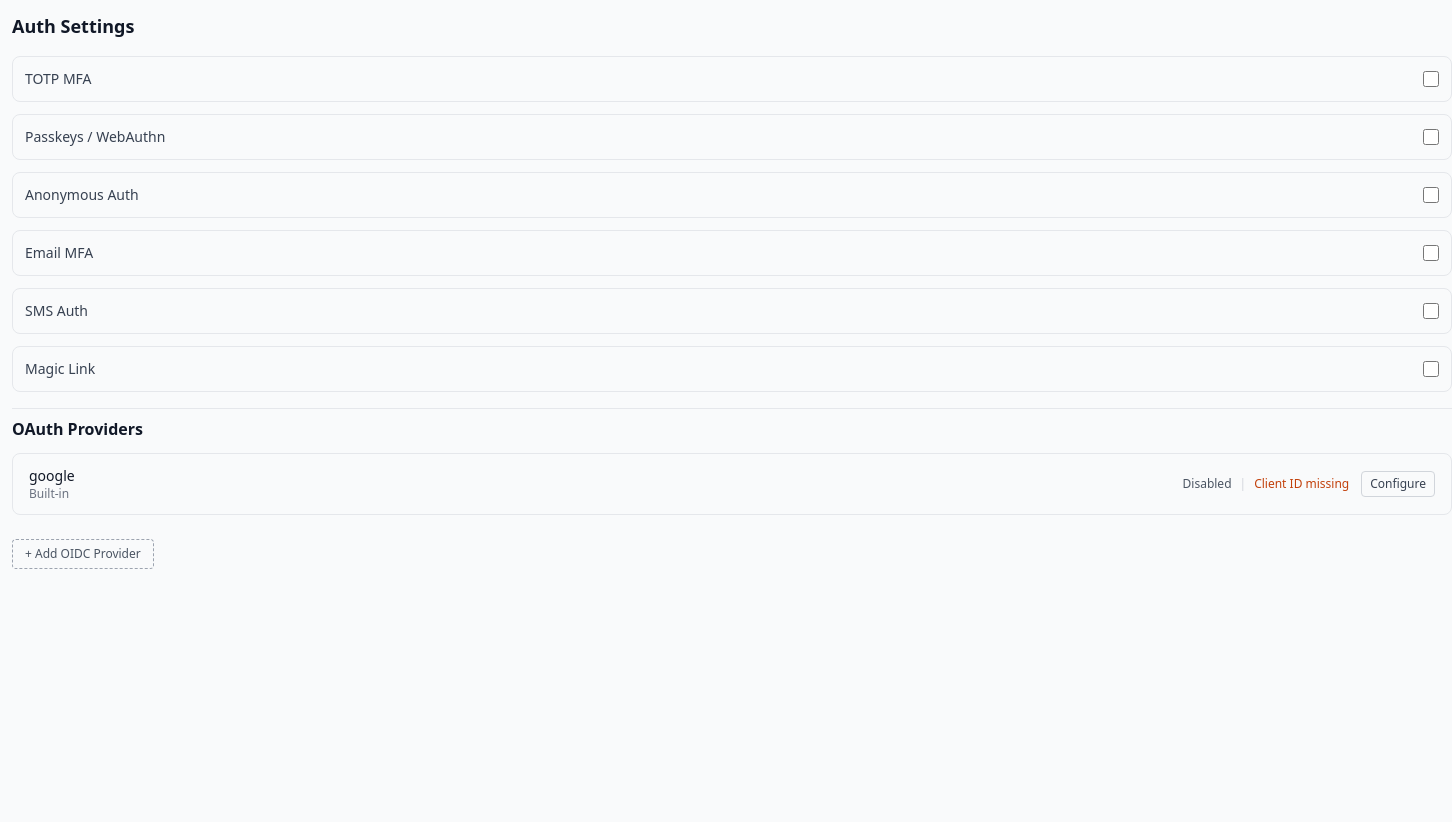
Test case: AuthSettings › opens provider form and saves built-in provider config
Click the button "Configure".
click(1398, 484)  # box [1361,471,1435,497]
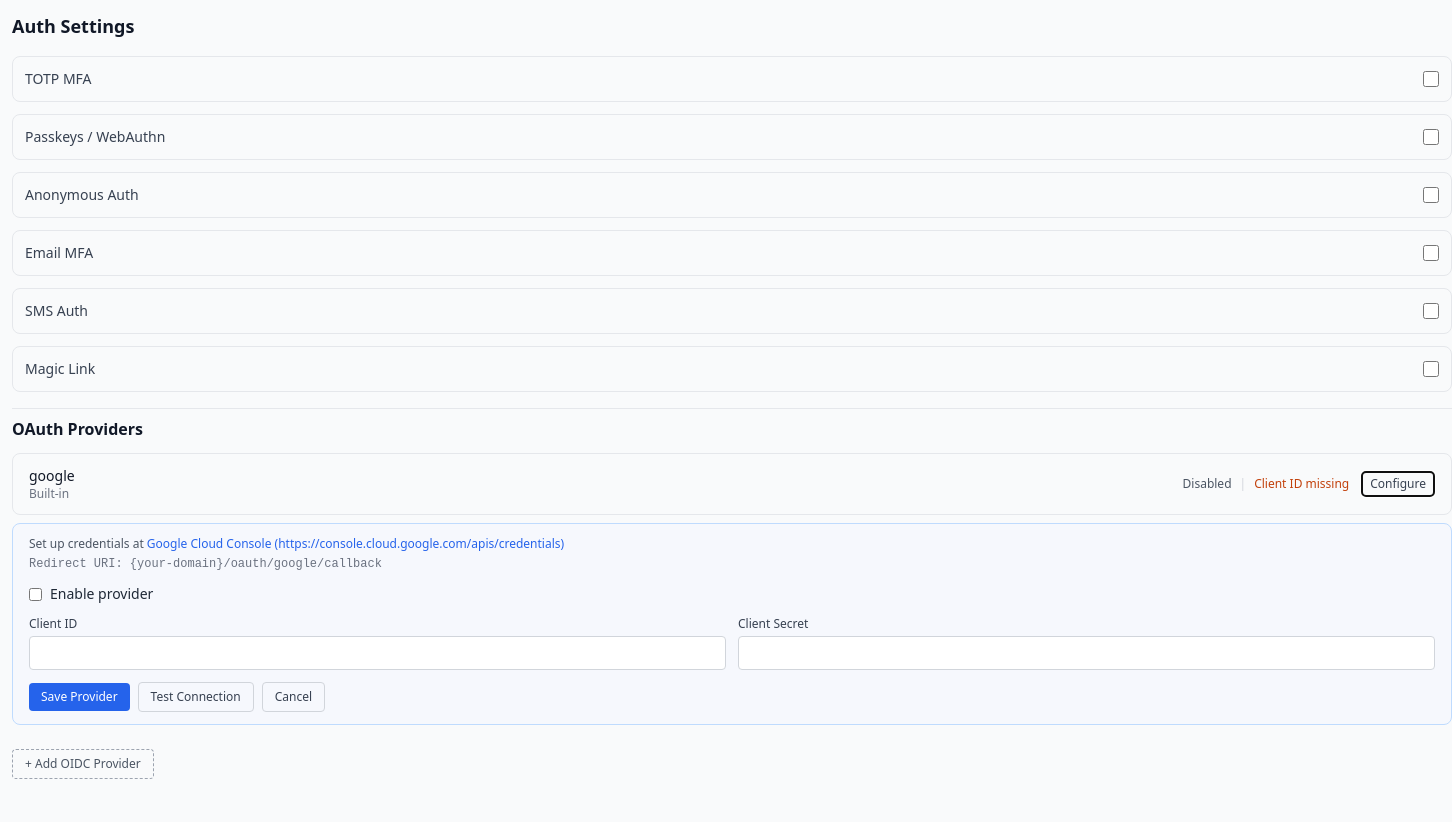
Click the checkbox with test id "provider-form-enabled".
click(36, 594)  # box [29,588,42,600]
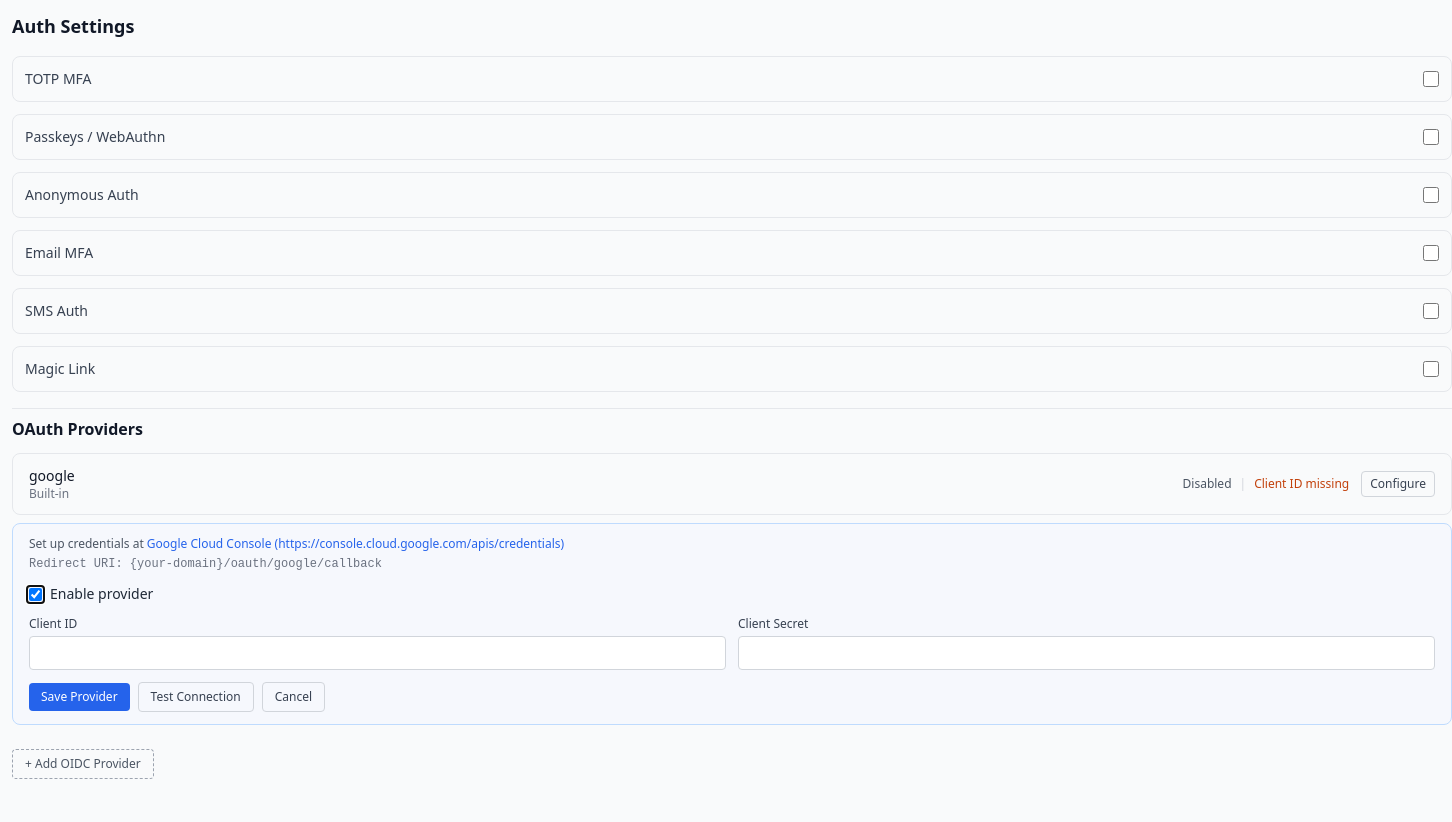
Type "google-client-id" into the field with test id "provider-form-client-id".
click(378, 653); type("google-client-id")  # box [29,636,726,670]
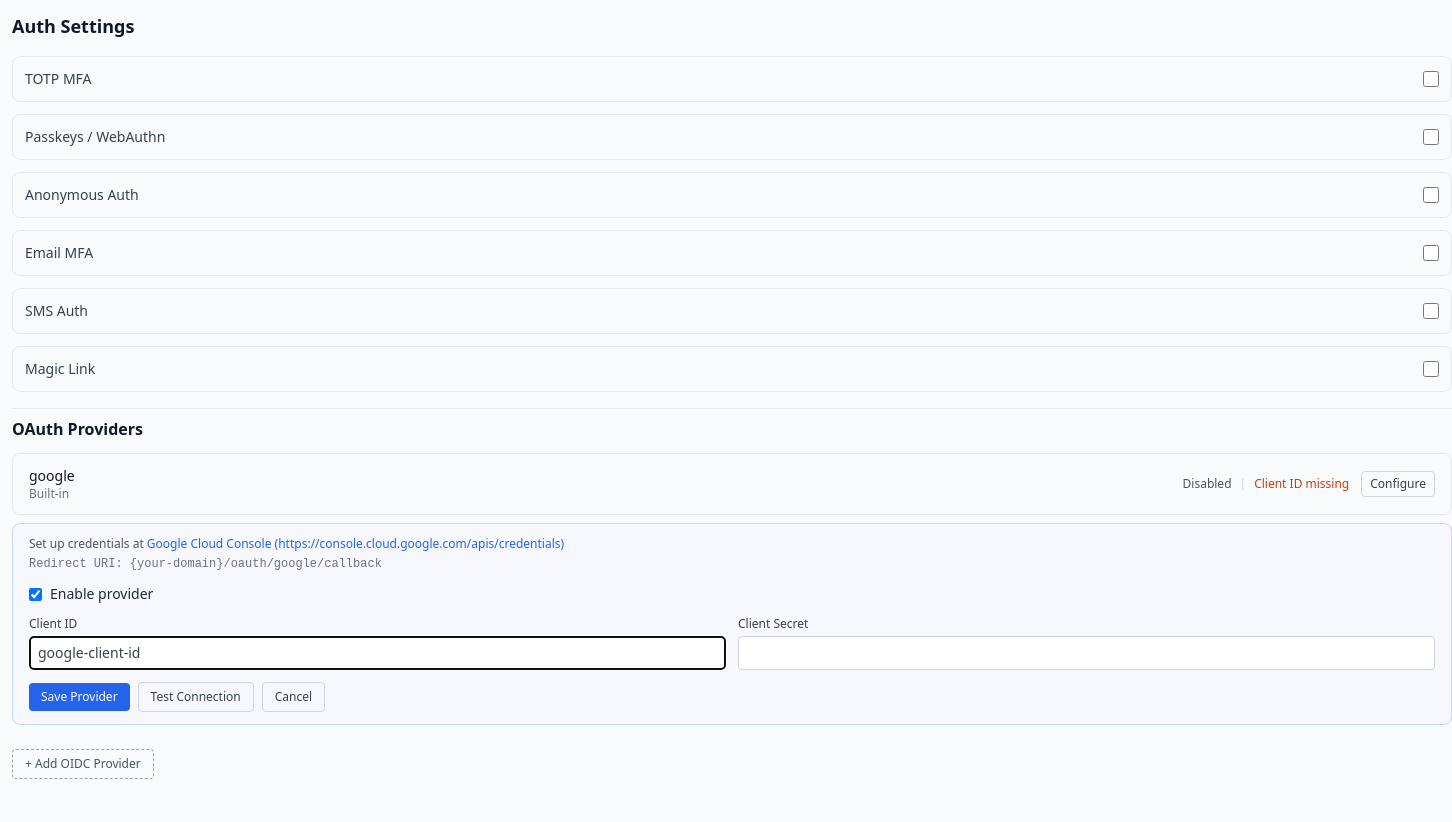
Type "google-client-secret" into the password field with test id "provider-form-client-secret".
click(1086, 653); type("google-client-secret")  # box [738,636,1435,670]
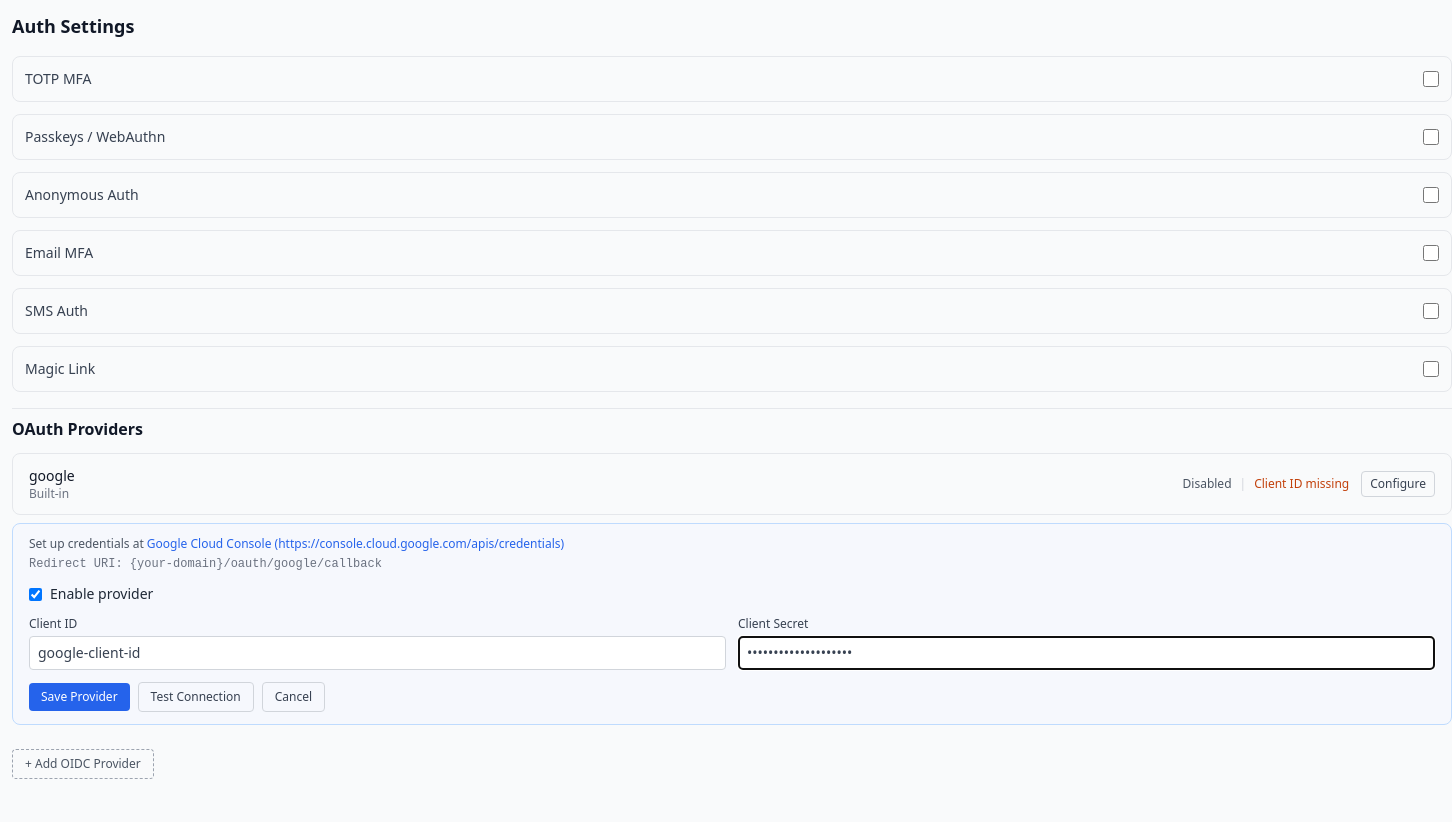
Click the button with test id "provider-form-save".
click(79, 697)  # box [29,683,130,711]
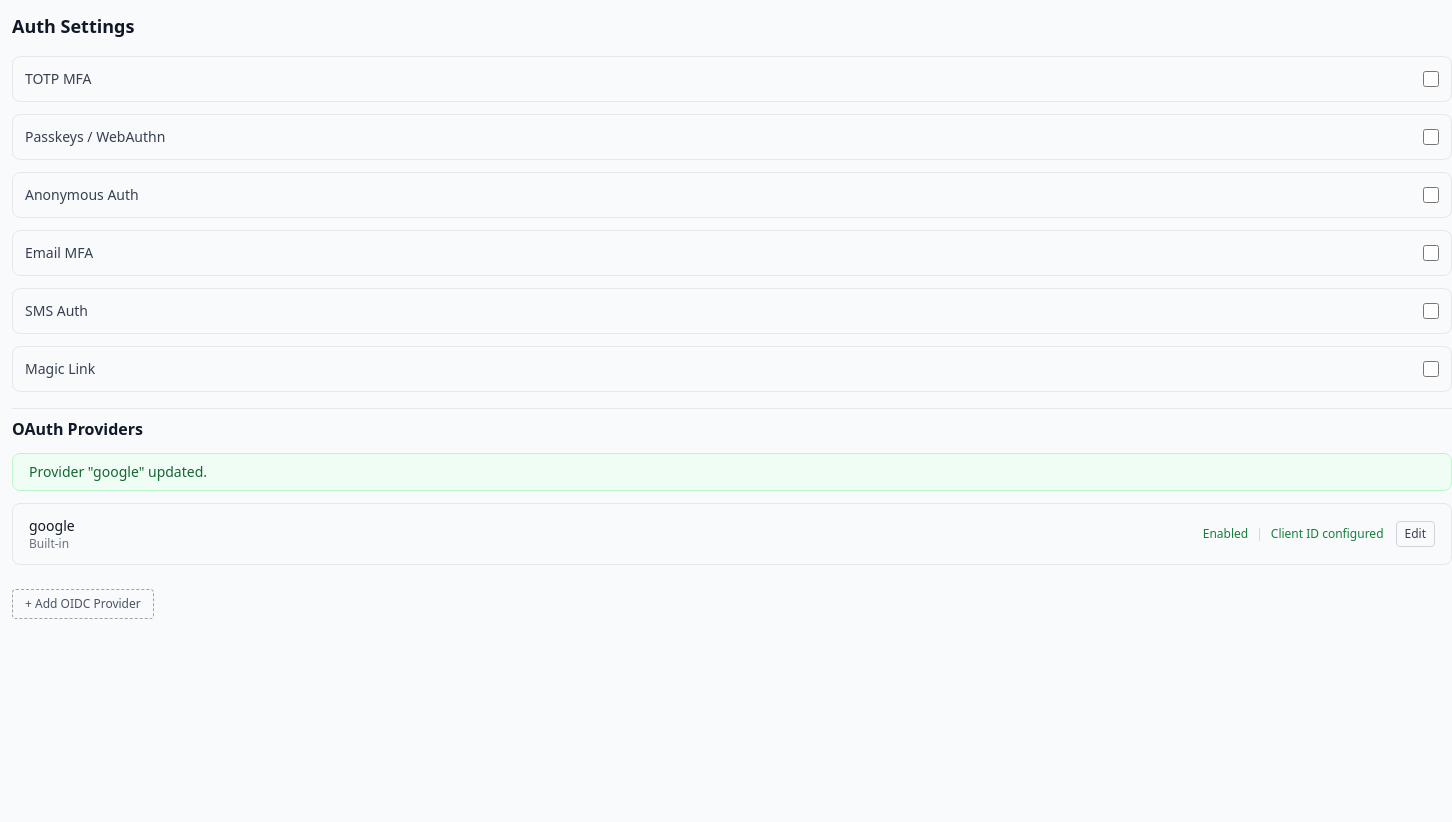
Expected: the text with test id "provider-enabled-google" reads "Enabled", [1203,525,1248,542]
Expected: the text with test id "provider-client-google" reads "Client ID configured", [1271,525,1384,542]
